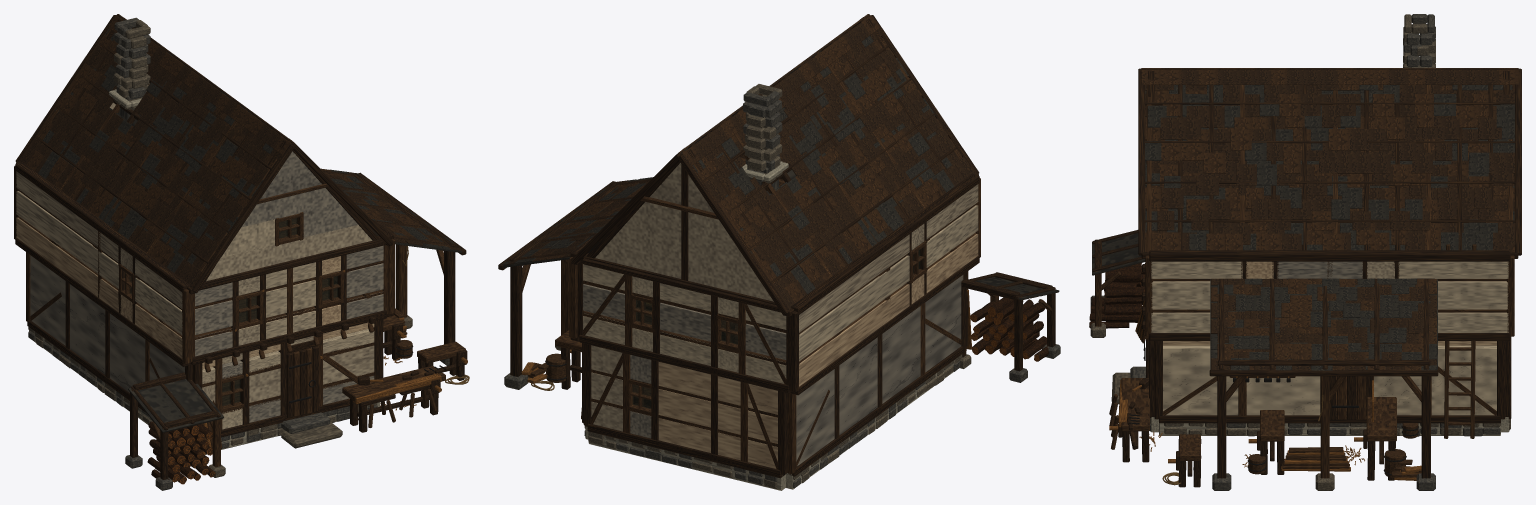
Rendered from medieval_carpenter_house_3d_runtime.glb.
The picture shows the model from 3 angles, left to right: view 1: azimuth 30°, elevation 25°; view 2: azimuth 150°, elevation 25°; view 3: azimuth 270°, elevation 25°; orthographic projection. The views are drawn at different scales.
Visible parts, largest first — view 1: LEFT_GROUND_INFILL_00_00, FRONT_GABLE_INFILL_LOWER, FRONT_GABLE_INFILL_TOP, LEFT_UPPER_INFILL_02_01, LEFT_UPPER_PLATE, WOOD_SHELTER_ROOF_UNDERDECK, LEFT_UPPER_INFILL_02_00, LEFT_UPPER_INFILL_02_02, FRONT_UPPER_JETTY_SILL, ROOF_VERGE_LEFT_FRONT, LEFT_UPPER_SILL, FRONT_GROUND_INFILL_04_01 (+40 smaller); view 2: LEFT_GROUND_INFILL_00_00, REAR_GABLE_INFILL, LEFT_UPPER_INFILL_02_01, LEFT_UPPER_PLATE, REAR_GROUND_INFILL_00_01, LEFT_UPPER_INFILL_02_00, REAR_GROUND_INFILL_00_02, REAR_GROUND_INFILL_00_00, LEFT_UPPER_INFILL_02_02, REAR_GROUND_SILL, REAR_GROUND_PLATE, ROOF_VERGE_LEFT_REAR (+40 smaller); view 3: RIGHT_GROUND_INFILL_00_00, RIGHT_GROUND_INFILL_02_00, RIGHT_UPPER_PLATE, RIGHT_GROUND_SILL, RIGHT_UPPER_INFILL_04_02, RIGHT_UPPER_INFILL_04_04, RIGHT_UPPER_INFILL_00_02, RIGHT_UPPER_INFILL_00_04, WORKSHOP_ROOF_FRONT_FASCIA, RIGHT_UPPER_INFILL_02_04, RIGHT_UPPER_INFILL_04_00, ROOF_VERGE_RIGHT_FRONT (+43 smaller).
Part boxes in pixels (bbox=[...]): LEFT_GROUND_INFILL_00_00: bbox=[30, 255, 184, 392]; FRONT_GABLE_INFILL_LOWER: bbox=[206, 224, 372, 281]; FRONT_GABLE_INFILL_TOP: bbox=[241, 151, 338, 227]; LEFT_UPPER_INFILL_02_01: bbox=[16, 191, 118, 288]; LEFT_UPPER_PLATE: bbox=[15, 162, 189, 292]; WOOD_SHELTER_ROOF_UNDERDECK: bbox=[128, 379, 223, 432]; LEFT_UPPER_INFILL_02_00: bbox=[16, 217, 118, 312]; LEFT_UPPER_INFILL_02_02: bbox=[16, 171, 118, 262]; FRONT_UPPER_JETTY_SILL: bbox=[190, 310, 386, 365]; ROOF_VERGE_LEFT_FRONT: bbox=[191, 144, 294, 293]; LEFT_UPPER_SILL: bbox=[15, 237, 190, 366]; FRONT_GROUND_INFILL_04_01: bbox=[323, 345, 374, 384]; LEFT_GROUND_INFILL_00_00: bbox=[796, 275, 963, 465]; REAR_GABLE_INFILL: bbox=[595, 163, 773, 301]; LEFT_UPPER_INFILL_02_01: bbox=[799, 255, 909, 361]; LEFT_UPPER_PLATE: bbox=[791, 174, 979, 315]; REAR_GROUND_INFILL_00_01: bbox=[658, 389, 777, 443]; LEFT_UPPER_INFILL_02_00: bbox=[799, 284, 909, 386]; REAR_GROUND_INFILL_00_02: bbox=[658, 362, 777, 414]; REAR_GROUND_INFILL_00_00: bbox=[658, 418, 777, 468]; LEFT_UPPER_INFILL_02_02: bbox=[799, 234, 909, 332]; REAR_GROUND_SILL: bbox=[587, 423, 784, 478]; REAR_GROUND_PLATE: bbox=[587, 336, 780, 390]; ROOF_VERGE_LEFT_REAR: bbox=[678, 154, 789, 315]; RIGHT_GROUND_INFILL_00_00: bbox=[1163, 345, 1320, 415]; RIGHT_GROUND_INFILL_02_00: bbox=[1374, 345, 1496, 415]; RIGHT_UPPER_PLATE: bbox=[1149, 250, 1510, 261]; RIGHT_GROUND_SILL: bbox=[1159, 412, 1500, 423]; RIGHT_UPPER_INFILL_04_02: bbox=[1438, 281, 1508, 309]; RIGHT_UPPER_INFILL_04_04: bbox=[1398, 261, 1508, 278]; RIGHT_UPPER_INFILL_00_02: bbox=[1151, 281, 1210, 309]; RIGHT_UPPER_INFILL_00_04: bbox=[1151, 261, 1242, 278]; WORKSHOP_ROOF_FRONT_FASCIA: bbox=[1209, 369, 1438, 376]; RIGHT_UPPER_INFILL_02_04: bbox=[1277, 261, 1362, 278]; RIGHT_UPPER_INFILL_04_00: bbox=[1438, 312, 1508, 332]; ROOF_VERGE_RIGHT_FRONT: bbox=[1138, 70, 1145, 255].
Size of the model in its own units: 11.25 by 9.9 by 10.87.
20 materials, 20 textured.
